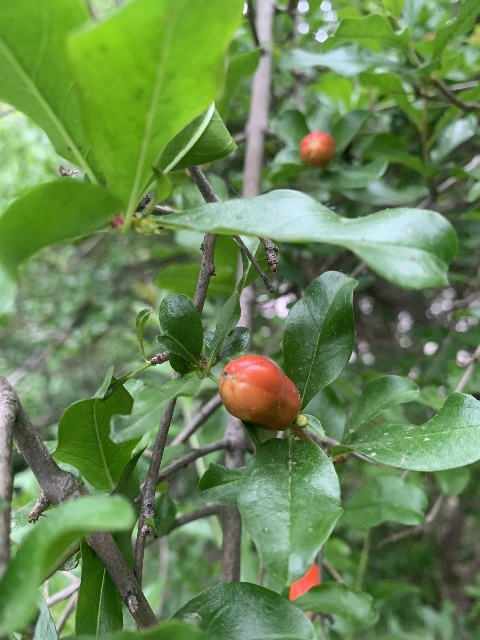bud: (219, 353, 300, 430), (299, 131, 335, 167)
